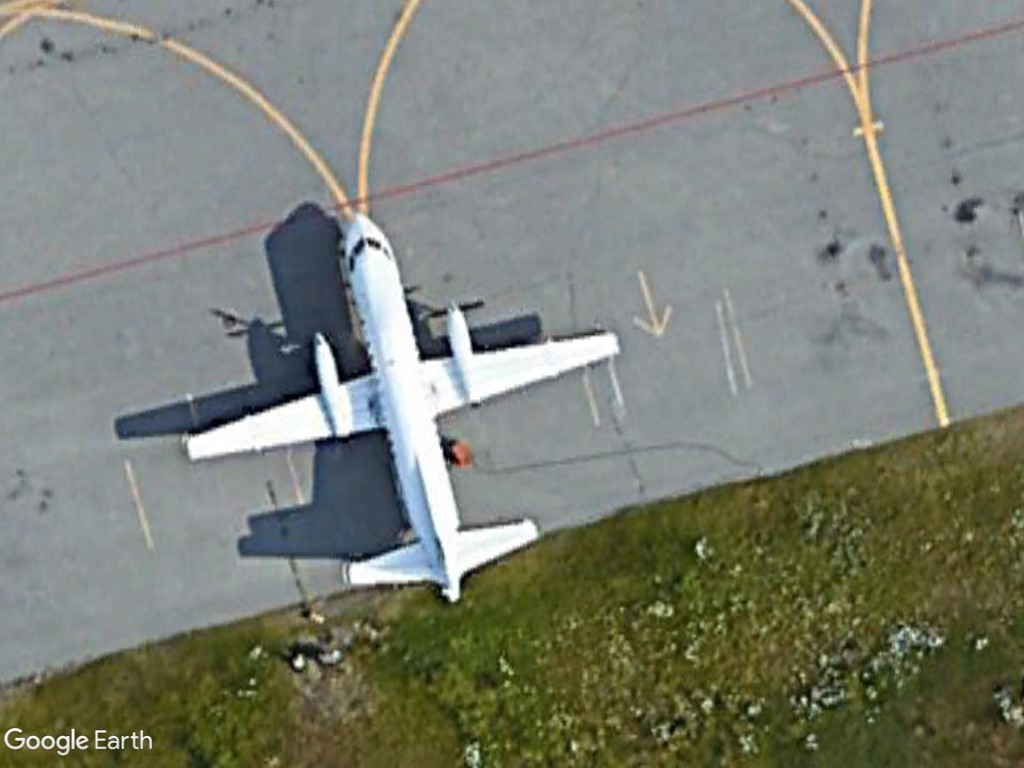propeller: (174, 202, 629, 617)
